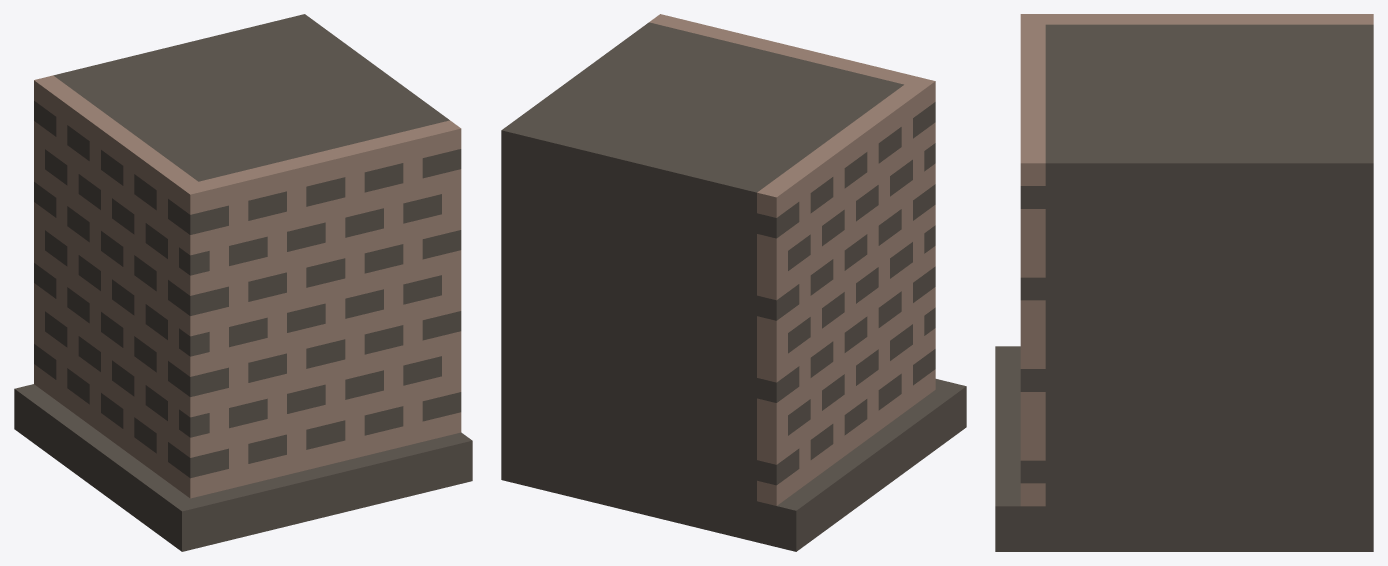
File: dungeon_a_b_outer_wall_corner_b.obj
3 renders of one model, left to right at view 1: azimuth 30°, elevation 25°; view 2: azimuth 150°, elevation 25°; view 3: azimuth 270°, elevation 25°, orthographic. The views are drawn at different scales.
Size of the model in its own units: 1.5 by 1.7 by 1.5.
Materials: 1 (1 with a texture image).
